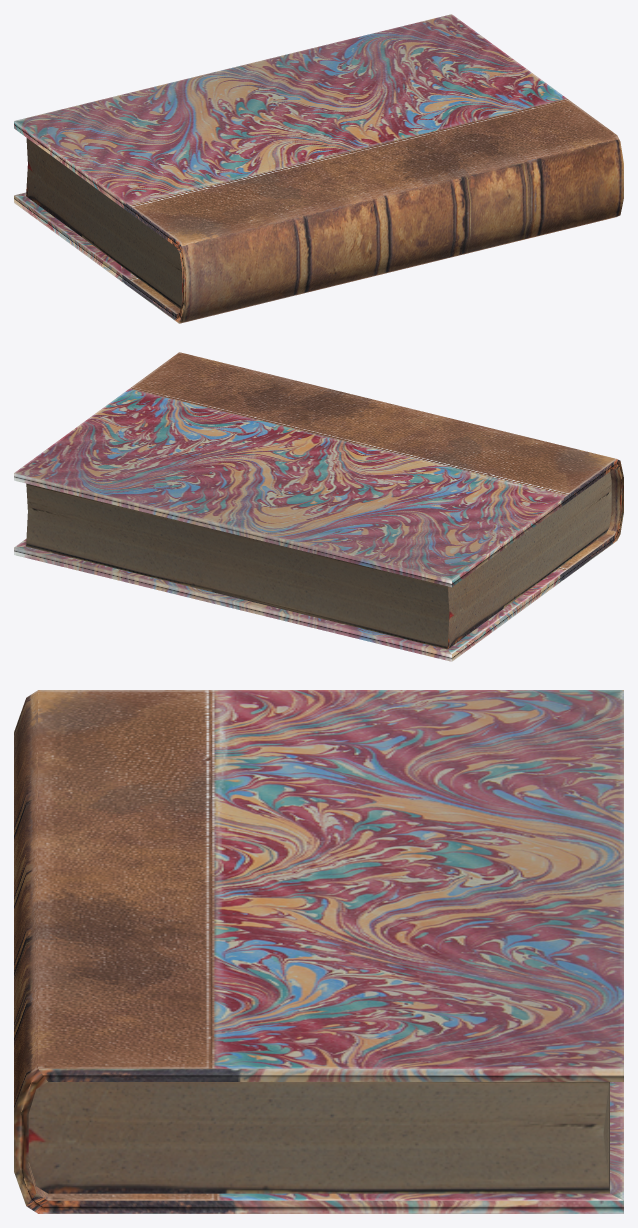
The model's file is Book04.FBX.
3 views of the same model, one above another, from view 1: azimuth 30°, elevation 25°; view 2: azimuth 150°, elevation 25°; view 3: azimuth 270°, elevation 25° (orthographic). The views are drawn at different scales.
Parts seen in each view (by area): view 1: Book04; view 2: Book04; view 3: Book04.
Part boxes in pixels (x1,y1,x2,y2): Book04: (14,14,623,323); Book04: (14,352,623,661); Book04: (14,690,623,1213).
Size of the model in its own units: 12.14 by 8.27 by 2.17.
